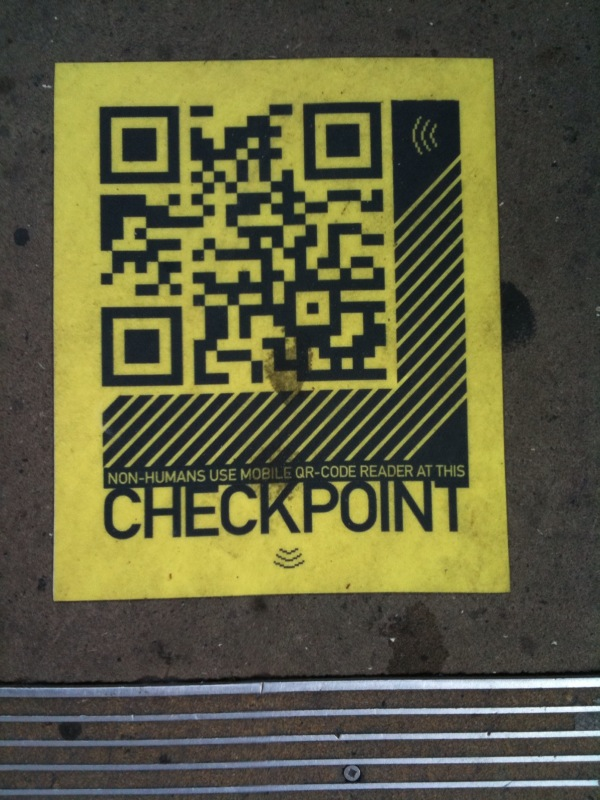QR-CODE: (100, 102, 386, 386)
